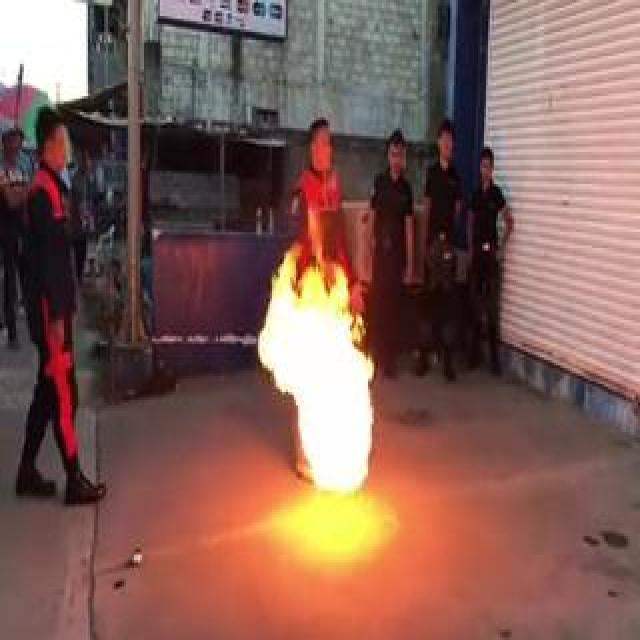Smoke: (255, 256, 379, 499)
